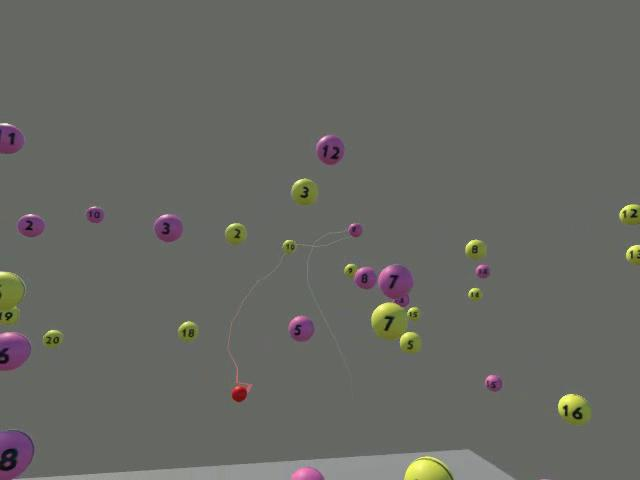ball_02_pink: (17, 213, 45, 237)
ball_02_yellow: (224, 222, 247, 244)
ball_03_pink: (153, 213, 183, 242)
ball_03_yellow: (290, 178, 318, 205)
ball_05_pink: (287, 315, 314, 342)
ball_05_yellow: (399, 331, 421, 353)
ball_07_pink: (378, 263, 413, 300)
ball_07_yellow: (371, 301, 408, 340)
ball_08_pink: (354, 266, 376, 289)
ball_08_yellow: (464, 239, 487, 260)
ball_09_pink: (348, 222, 362, 237)
ball_09_yellow: (343, 263, 357, 277)
ball_10_pink: (85, 206, 105, 223)
ball_10_yellow: (282, 239, 296, 253)
ball_12_pink: (315, 134, 345, 164)
ball_12_yellow: (618, 204, 640, 226)
ball_14_pink: (475, 263, 490, 278)
ball_14_yellow: (467, 287, 482, 300)
ball_15_pink: (484, 374, 502, 391)
ball_15_yellow: (406, 306, 420, 321)
ball_16_yellow: (557, 393, 591, 424)
ball_18_yellow: (177, 321, 198, 341)
ball_20_yellow: (41, 330, 63, 349)
ball_unknown: (0, 429, 34, 479), (0, 331, 31, 371), (403, 455, 454, 479), (0, 271, 26, 309), (0, 122, 24, 154), (290, 466, 325, 479), (0, 305, 20, 325), (625, 244, 639, 263), (394, 294, 408, 305), (539, 477, 552, 479)
user_cursor: (231, 385, 247, 402)
